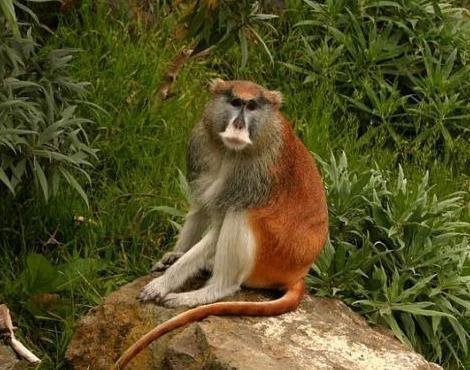monkey: (125, 79, 329, 359)
